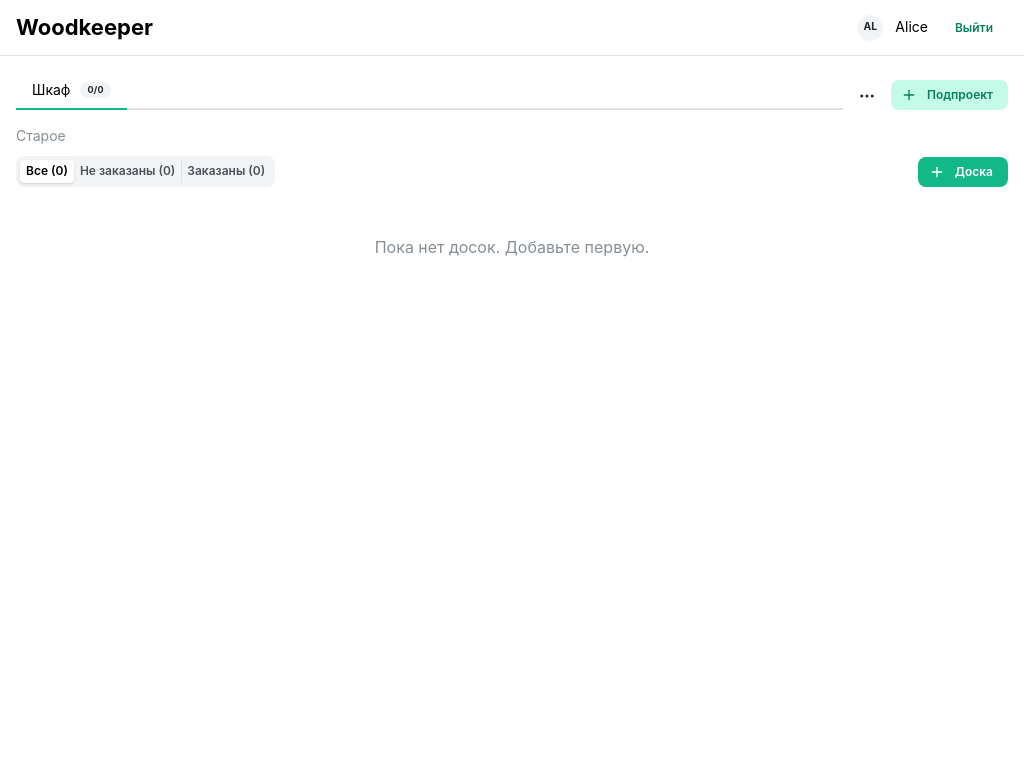
Test: projects UI › renames a project and clears its description
This screenshot has width=1024, height=768.
Click the button named "Действия с подпроектом" at (867, 96), box [853,82,881,110]
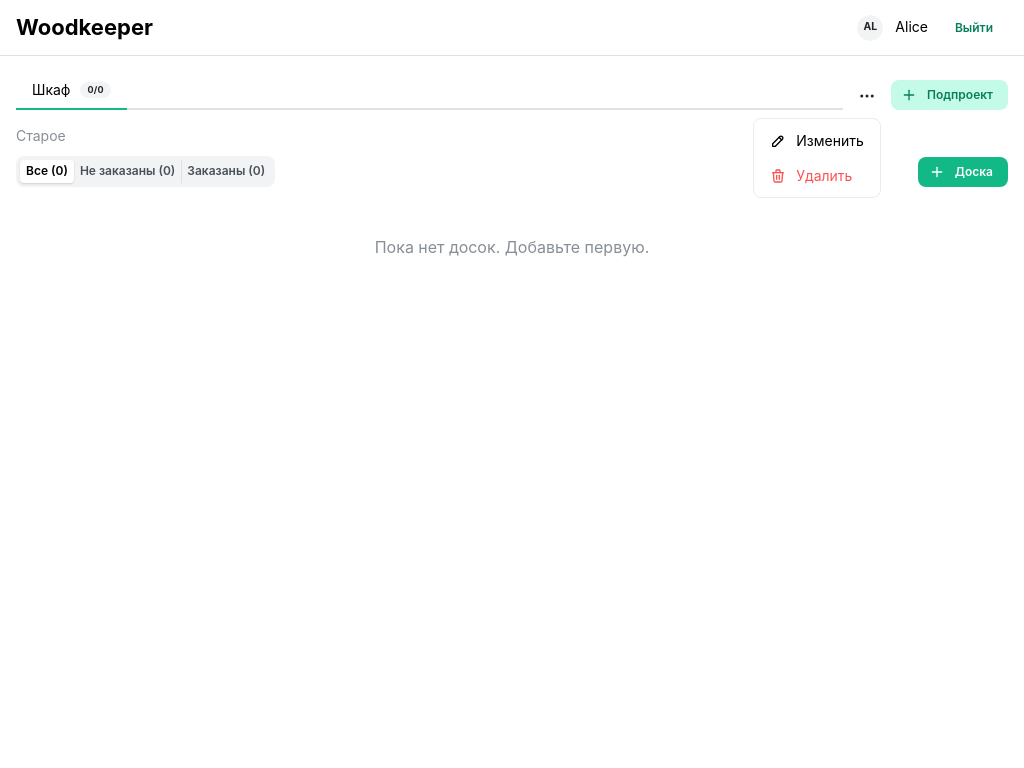
Click the menu item "Изменить" at (817, 140), box [758,123,876,158]
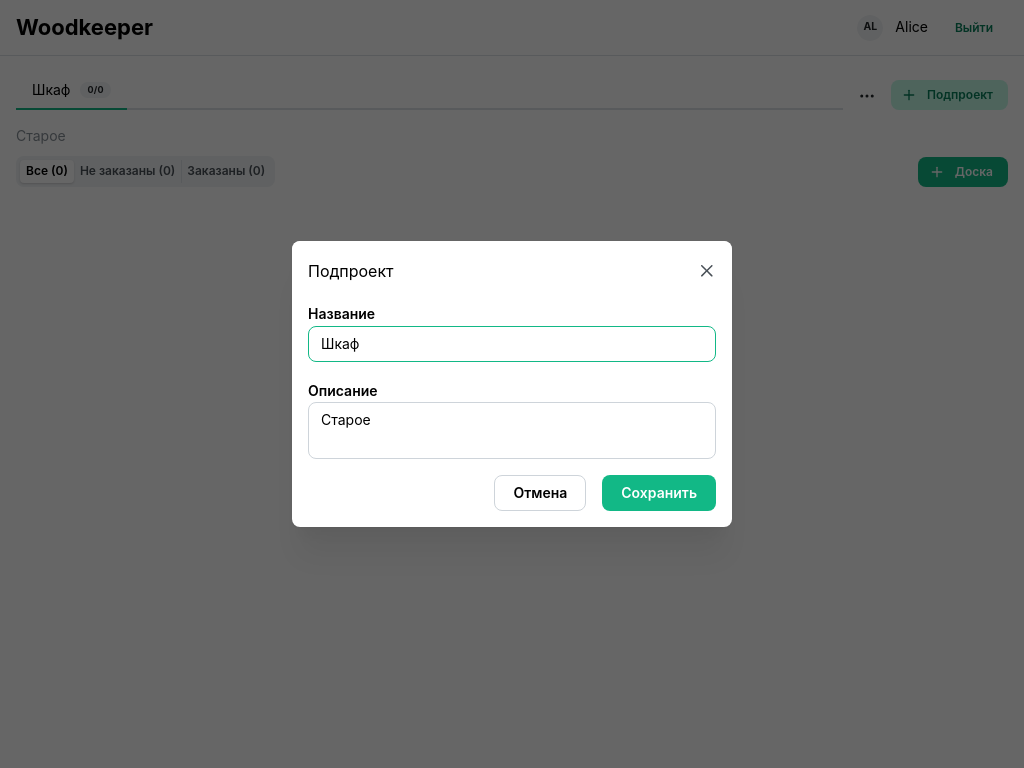
Now the field labelled "Название" holds "Шкаф"
Replace the text in the field labelled "Название" with "Шкаф-купе" at (512, 344), box [308,326,716,362]
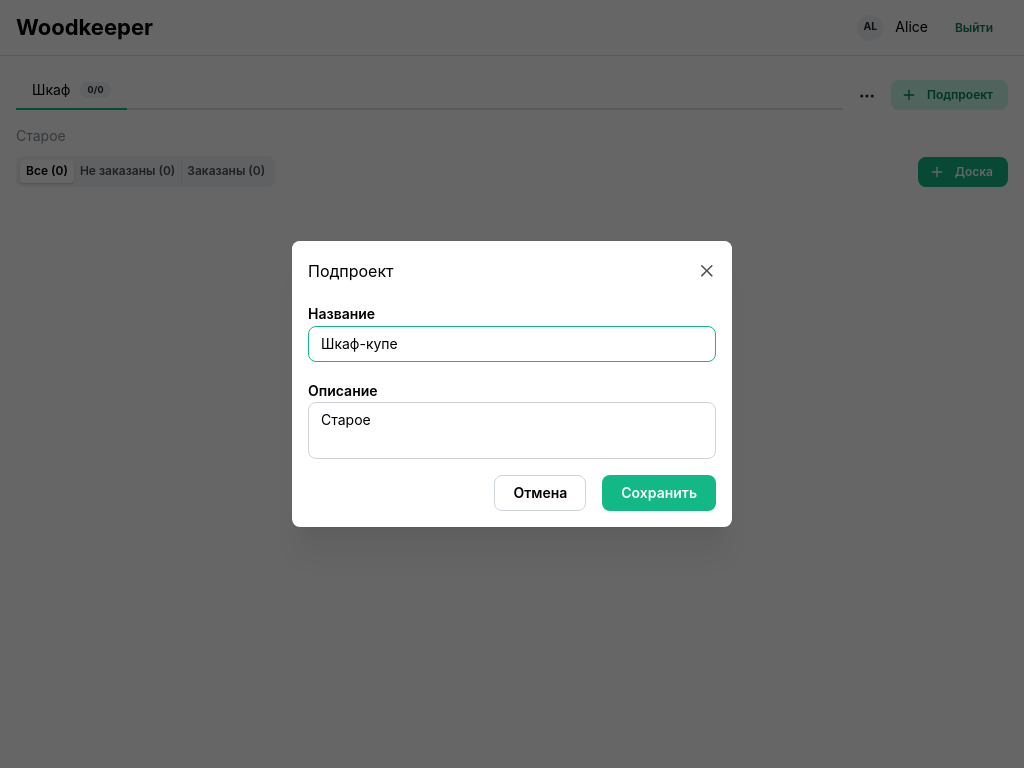
Clear the text box labelled "Описание" at (512, 431), box [308,402,716,459]
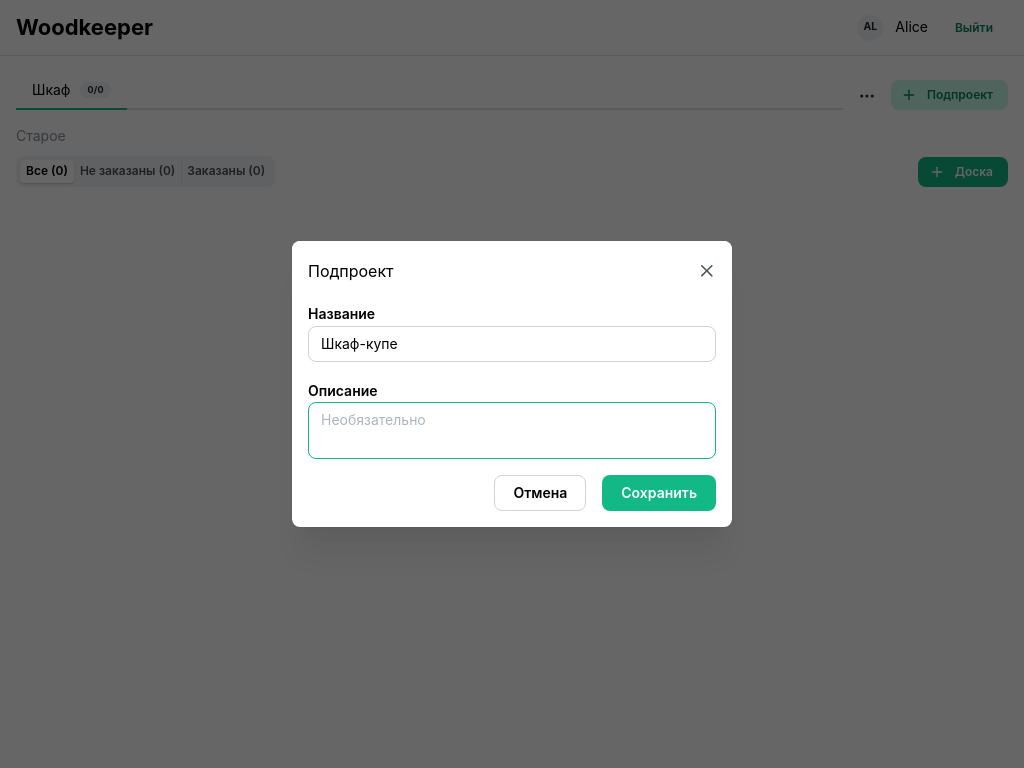
Click the button "Сохранить" at (659, 493), box [602,475,716,511]
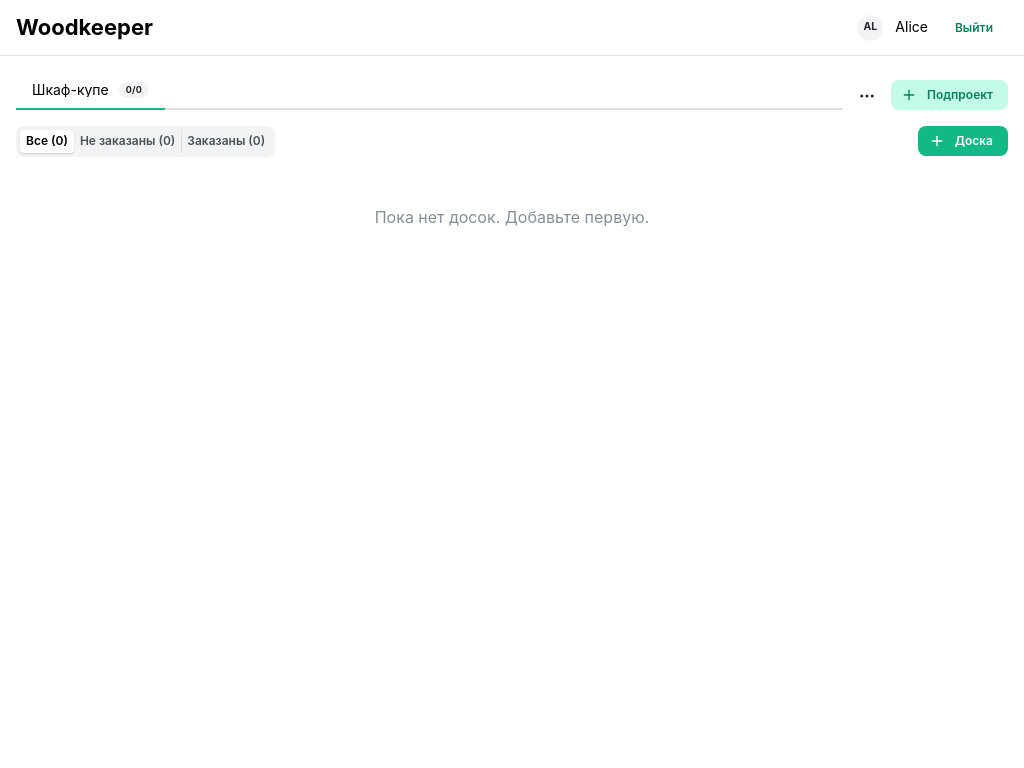
Now the tab "Шкаф-купе 0/0" is shown, box [16,72,165,110]
Now the text "Старое" is gone
